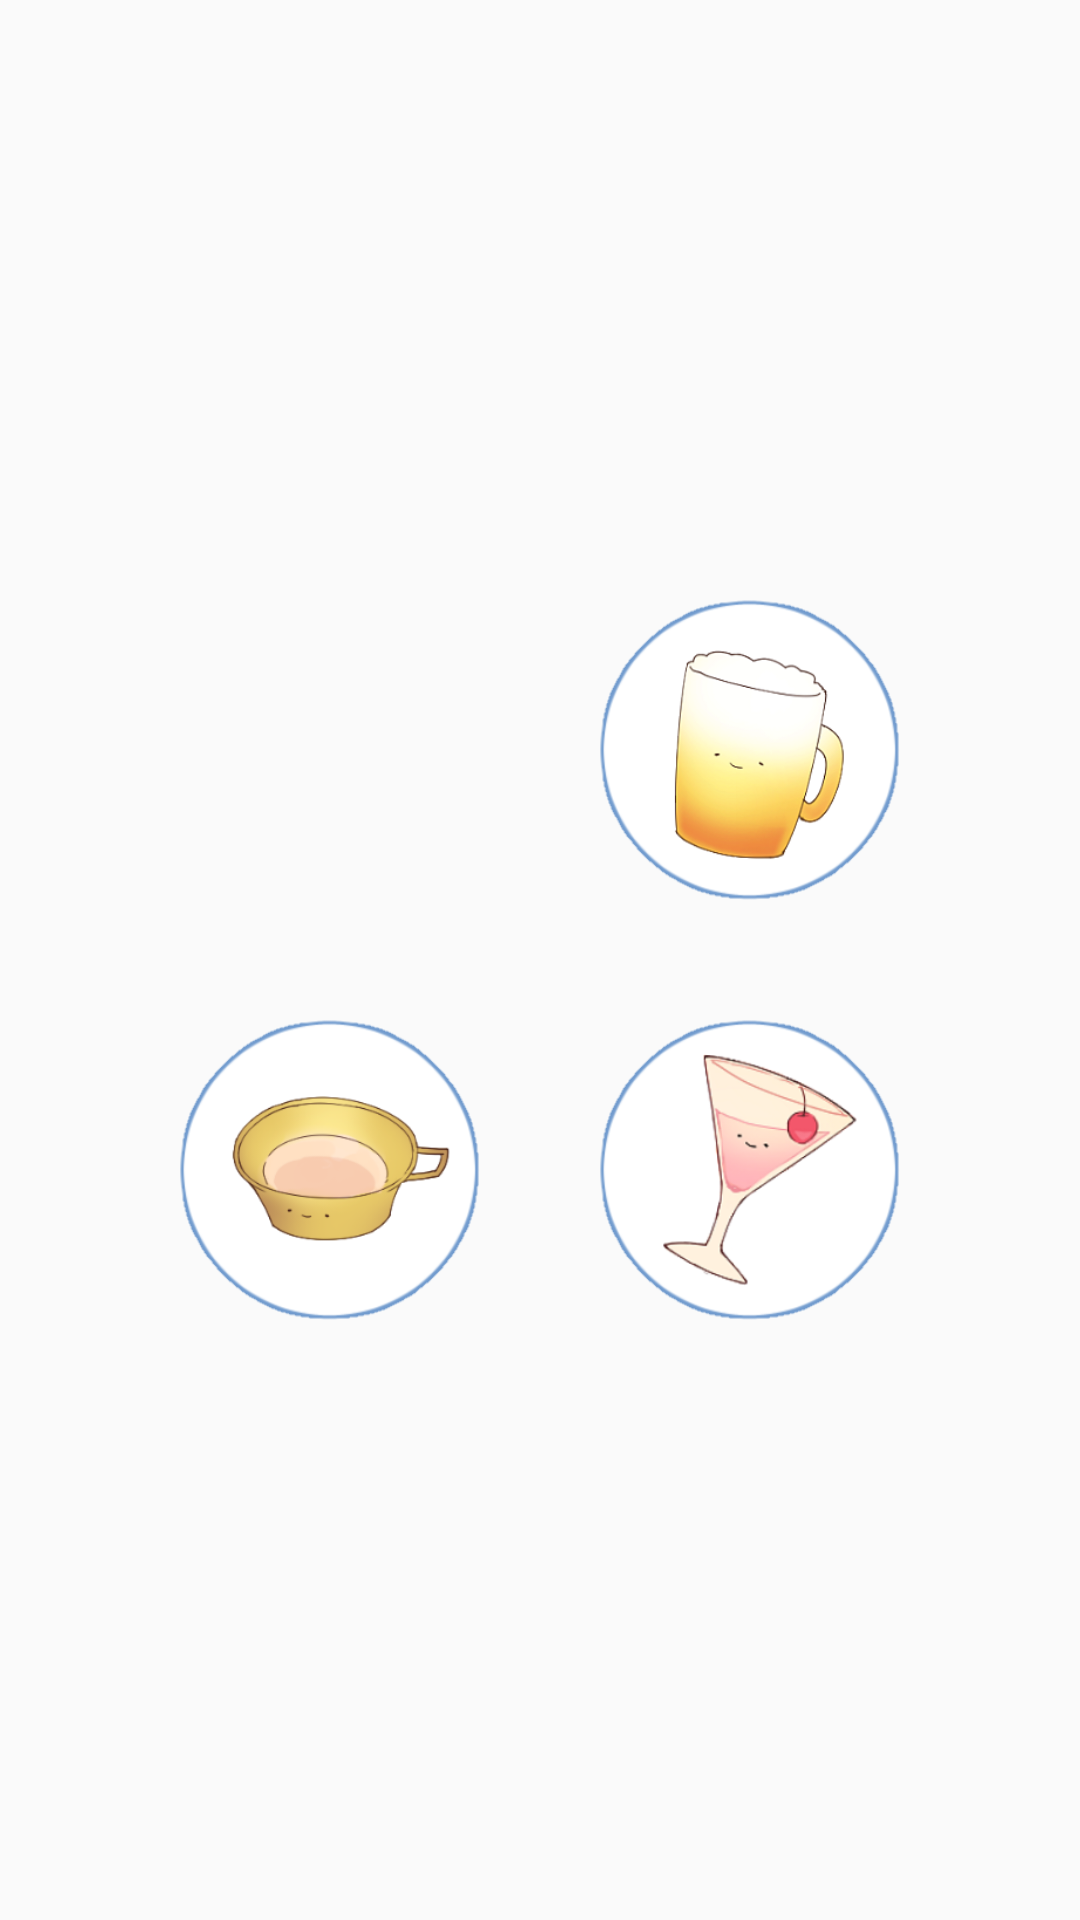

Where icons sit on this 1080 x 1920 app screen, as region(x1, y1, x2, y2):
beer: region(600, 600, 899, 899)
cocktail: region(600, 1020, 899, 1319)
makgeolli: region(180, 1020, 479, 1319)
